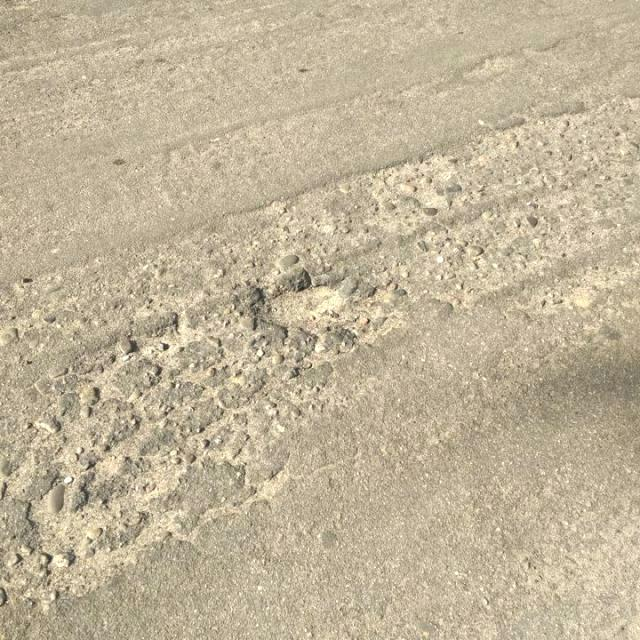Pothole: (252, 276, 353, 326)
